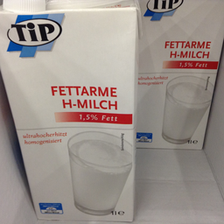milk: (1, 1, 136, 224), (139, 1, 224, 158)
